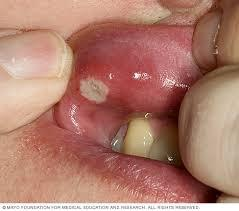Ulcer: (76, 67, 114, 106), (128, 66, 156, 88)
